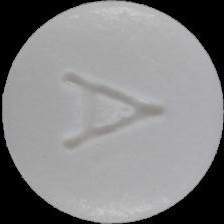42291-160: (0, 0, 224, 224)
